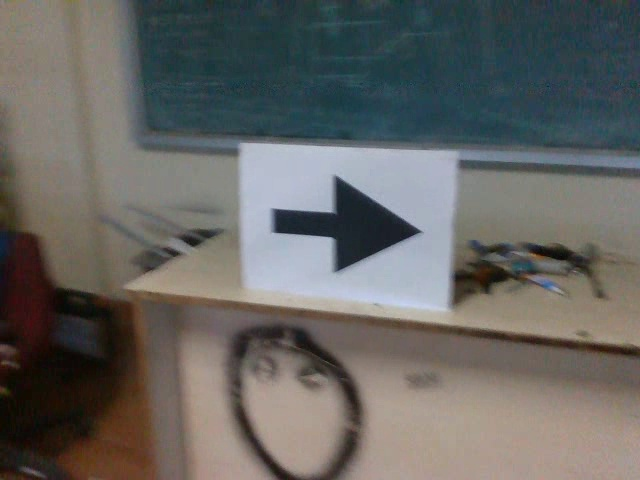Right: (261, 173, 424, 274)
